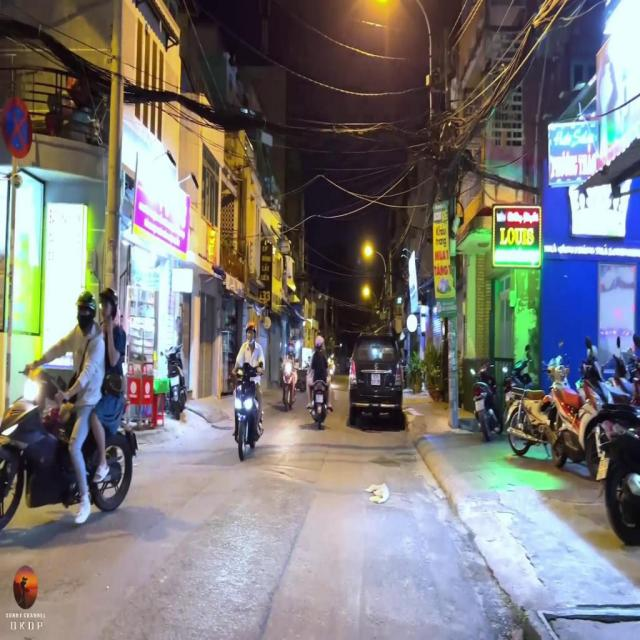cam_dung_xe_va_do_xe: (3, 96, 32, 158)
